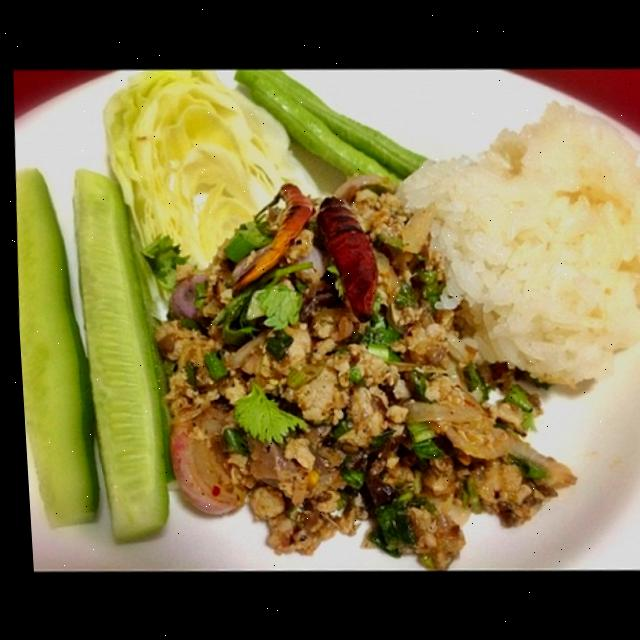鸡肉料理 含炸鸡: (19, 57, 640, 582)
